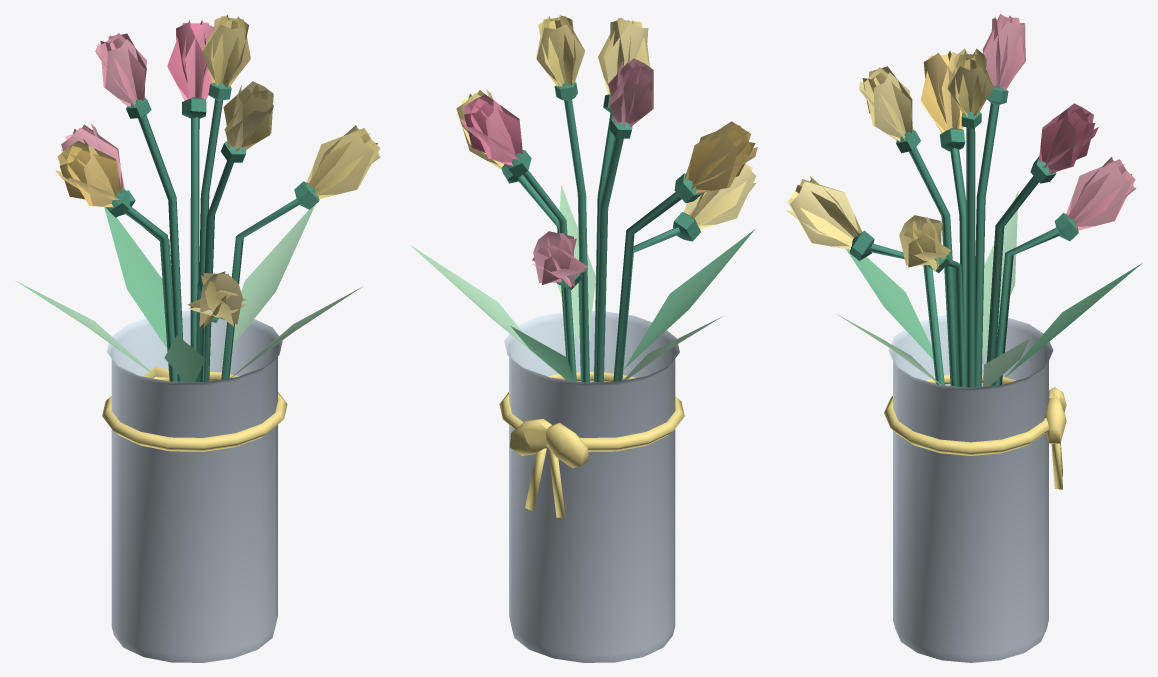
Rendered from vase_tulips.glb.
The picture shows the model from 3 angles, left to right: view 1: azimuth 30°, elevation 25°; view 2: azimuth 150°, elevation 25°; view 3: azimuth 270°, elevation 25°; orthographic projection.
Parts seen in each view (by area): view 1: vase_tulips; view 2: vase_tulips; view 3: vase_tulips.
Boxes of the visible parts, <box> form: vase_tulips: <box>15,14,380,662</box>; vase_tulips: <box>410,14,757,662</box>; vase_tulips: <box>786,14,1142,662</box>.
Size of what is drawn, in the model's own units: 0.3 by 0.55 by 0.3.
